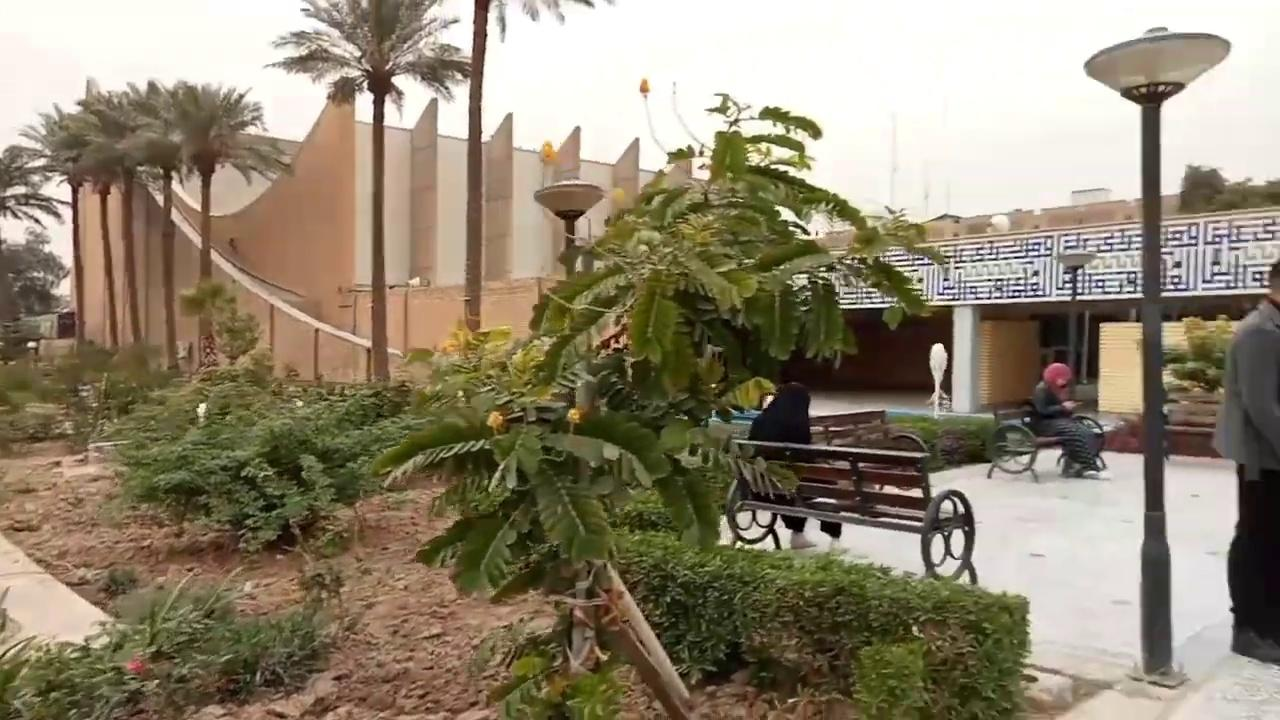fountain: (925, 341, 949, 413)
person: (1213, 259, 1279, 664), (746, 368, 842, 549), (1031, 362, 1102, 475)
tree: (368, 83, 949, 718), (15, 75, 296, 375), (264, 0, 473, 382), (455, 0, 605, 334), (160, 79, 293, 371), (47, 77, 150, 355), (18, 86, 109, 356), (118, 78, 189, 372), (0, 142, 68, 323)
